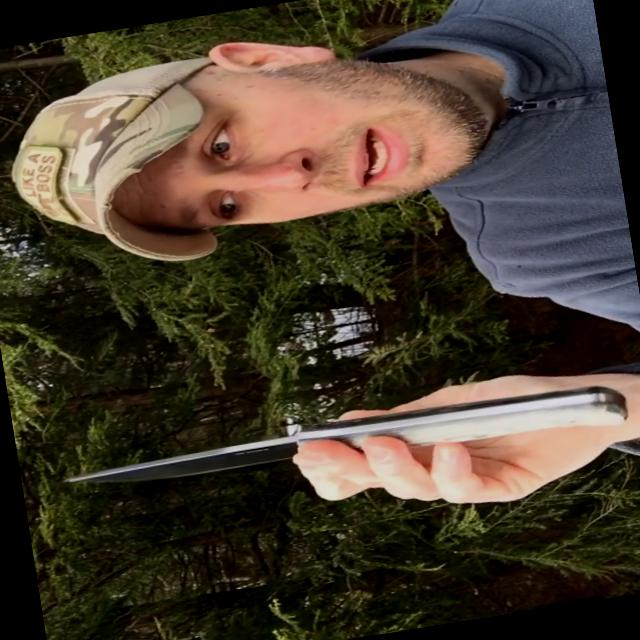knife: (48, 383, 481, 574)
